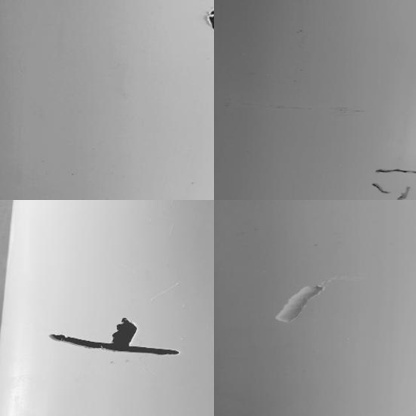fengxi: (49, 332, 184, 359), (370, 164, 410, 175), (371, 180, 391, 199)
kongdong: (111, 314, 137, 343)
sunshang: (276, 276, 323, 328)
